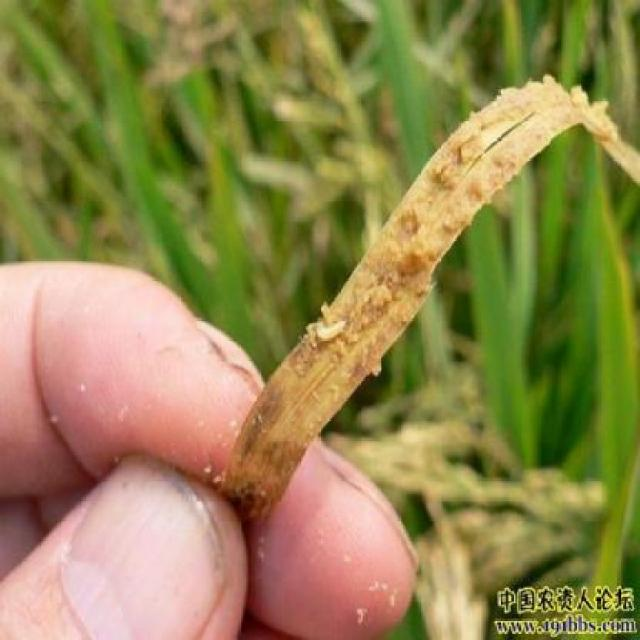whorl-maggot: (310, 317, 358, 355)
